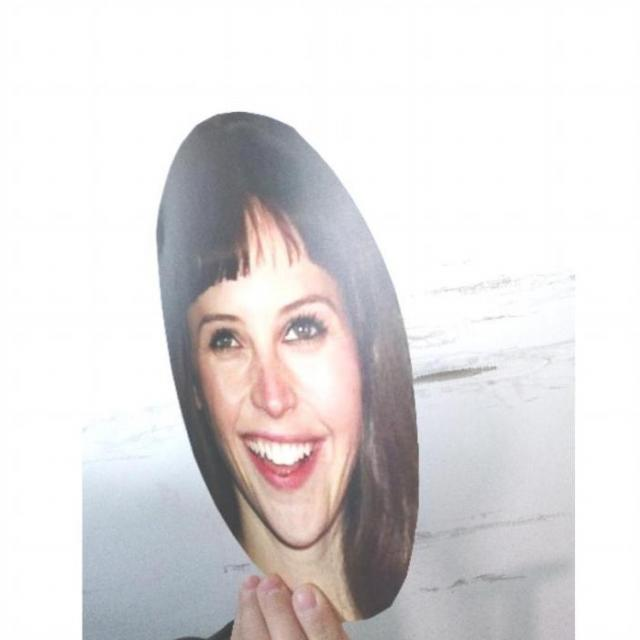photo: (148, 105, 428, 632)
